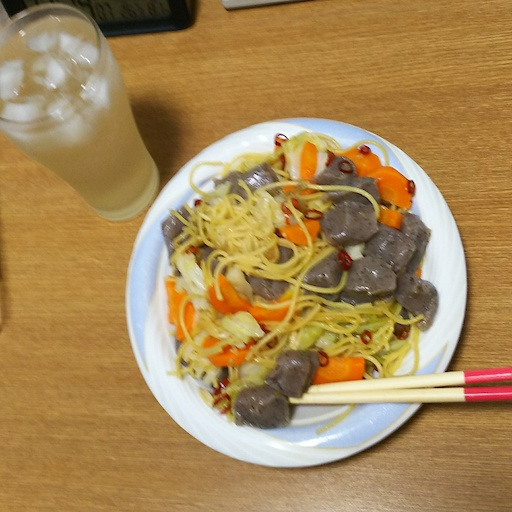drink: (1, 3, 161, 221)
pasta: (162, 130, 439, 428)
